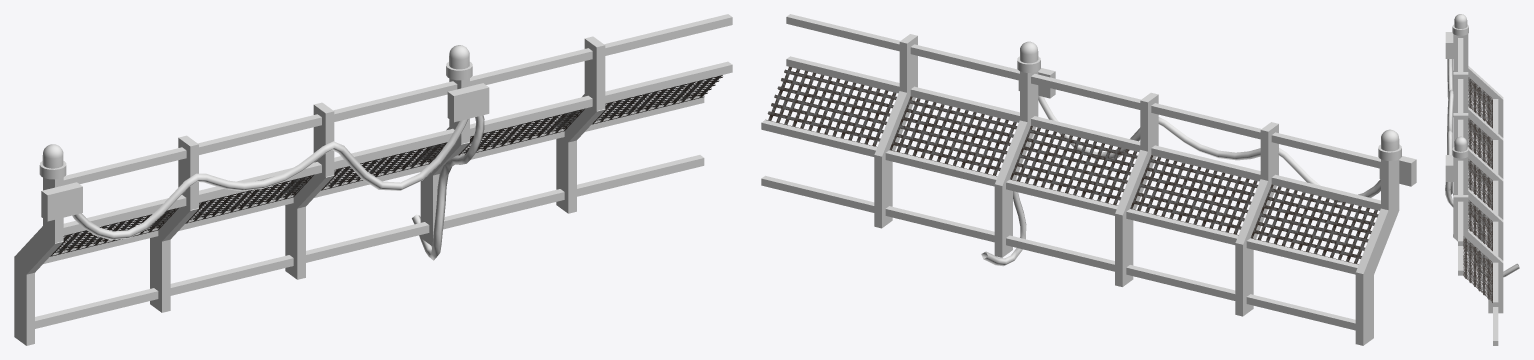
File: fence_5m_01.fbx
3 views of the same model, side by side, from view 1: azimuth 30°, elevation 25°; view 2: azimuth 150°, elevation 25°; view 3: azimuth 270°, elevation 25° (orthographic). The views are drawn at different scales.
Parts seen in each view (by area): view 1: Cube.137, Cube.130, Cube.131, Cube.135, Cube.132, BezierCurve.009, Cube.134, BezierCurve.011, Cube.096, Cube.112, Cube.106, Cube.098 (+13 smaller); view 2: Cube.134, Cube.132, Cube.130, Cube.137, Cube.131, Cube.135, BezierCurve.009, Cube.095, Cube.096, Cube.098, Cube.112, Cube.109 (+14 smaller); view 3: Cube.134, Cube.135, Cube.132, Cube.130, BezierCurve.009, Cube.113, Cube.095, Cube.099, Cube.107, Cube.110, Cube.114, Cube.105 (+15 smaller).
Part boxes in pixels (left/top/right/bottom): Cube.137: left=35, top=155, right=704, bottom=328; Cube.130: left=63, top=14, right=732, bottom=185; Cube.131: left=63, top=61, right=732, bottom=235; Cube.135: left=50, top=75, right=722, bottom=256; Cube.132: left=43, top=92, right=704, bottom=263; BezierCurve.009: left=72, top=119, right=468, bottom=239; Cube.134: left=56, top=75, right=722, bottom=252; BezierCurve.011: left=412, top=115, right=484, bottom=260; Cube.096: left=14, top=256, right=34, bottom=345; Cube.112: left=556, top=126, right=576, bottom=213; Cube.106: left=285, top=191, right=305, bottom=279; Cube.098: left=150, top=230, right=170, bottom=312; Cube.134: left=765, top=67, right=1378, bottom=264; Cube.132: left=761, top=120, right=1358, bottom=274; Cube.130: left=786, top=14, right=1380, bottom=168; Cube.137: left=761, top=175, right=1355, bottom=330; Cube.131: left=786, top=56, right=1380, bottom=210; Cube.135: left=768, top=67, right=1377, bottom=263; BezierCurve.009: left=1038, top=95, right=1380, bottom=203; Cube.095: left=1356, top=202, right=1399, bottom=281; Cube.096: left=1355, top=272, right=1373, bottom=345; Cube.098: left=1235, top=237, right=1253, bottom=316; Cube.112: left=874, top=149, right=892, bottom=228; Cube.109: left=994, top=179, right=1012, bottom=257; Cube.134: left=1463, top=77, right=1492, bottom=301; Cube.135: left=1463, top=78, right=1492, bottom=302; Cube.132: left=1493, top=99, right=1498, bottom=306; Cube.130: left=1458, top=38, right=1463, bottom=245; BezierCurve.009: left=1447, top=59, right=1454, bottom=194; Cube.113: left=1453, top=227, right=1502, bottom=270; Cube.095: left=1453, top=64, right=1502, bottom=108; Cube.099: left=1455, top=105, right=1502, bottom=145; Cube.107: left=1468, top=148, right=1502, bottom=188; Cube.110: left=1453, top=188, right=1502, bottom=228; Cube.114: left=1453, top=195, right=1468, bottom=236; Cube.105: left=1453, top=72, right=1468, bottom=112.
Bounding box in the file's own units: 5131 × 1625 × 774.
